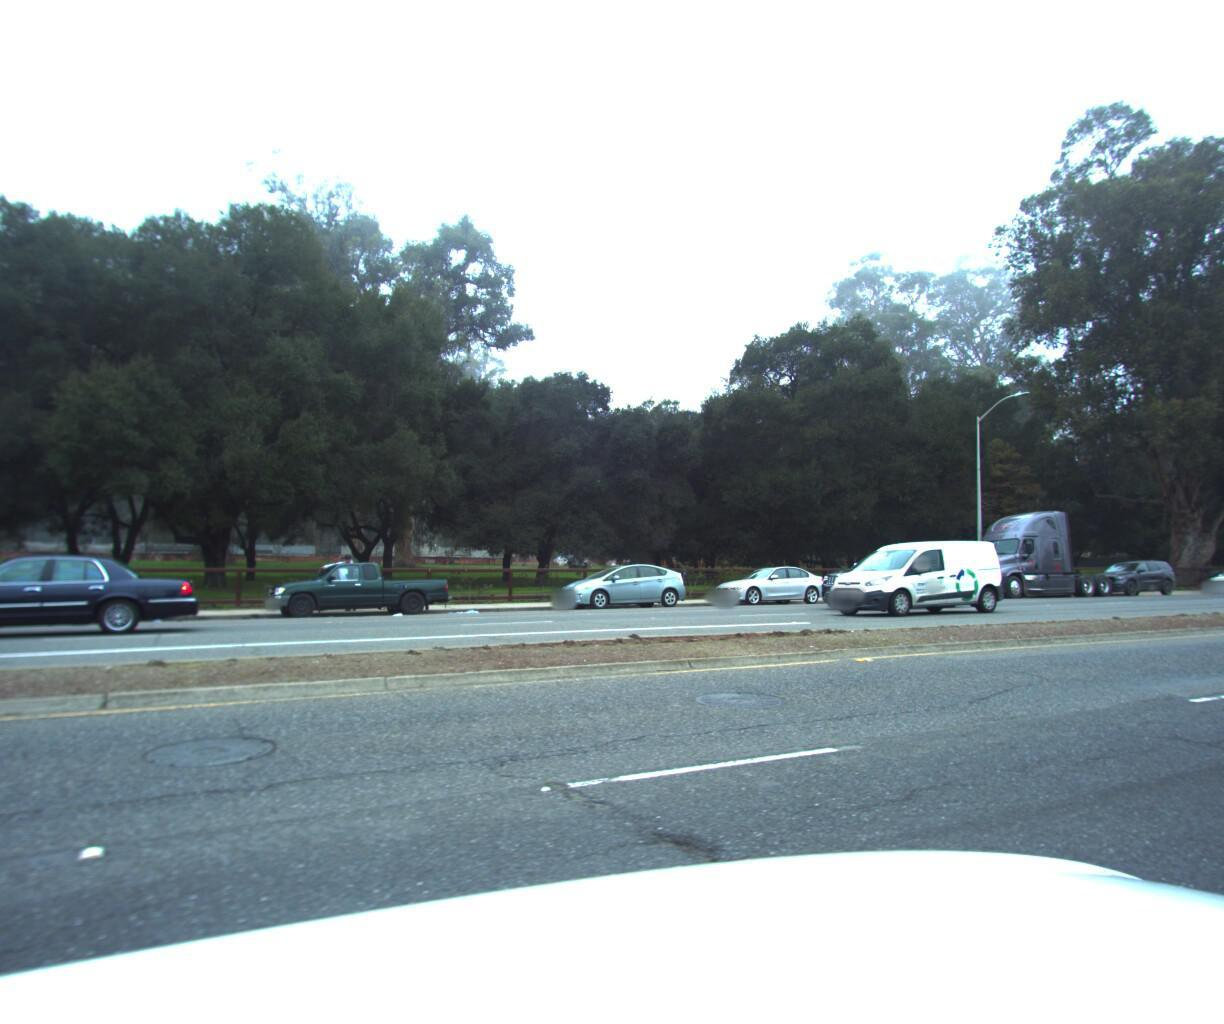car: (810, 529, 1013, 617), (254, 556, 457, 626), (803, 543, 972, 615), (547, 557, 694, 612), (703, 559, 834, 607), (1078, 552, 1176, 595), (1192, 558, 1224, 589)
truck: (938, 499, 1114, 597)
